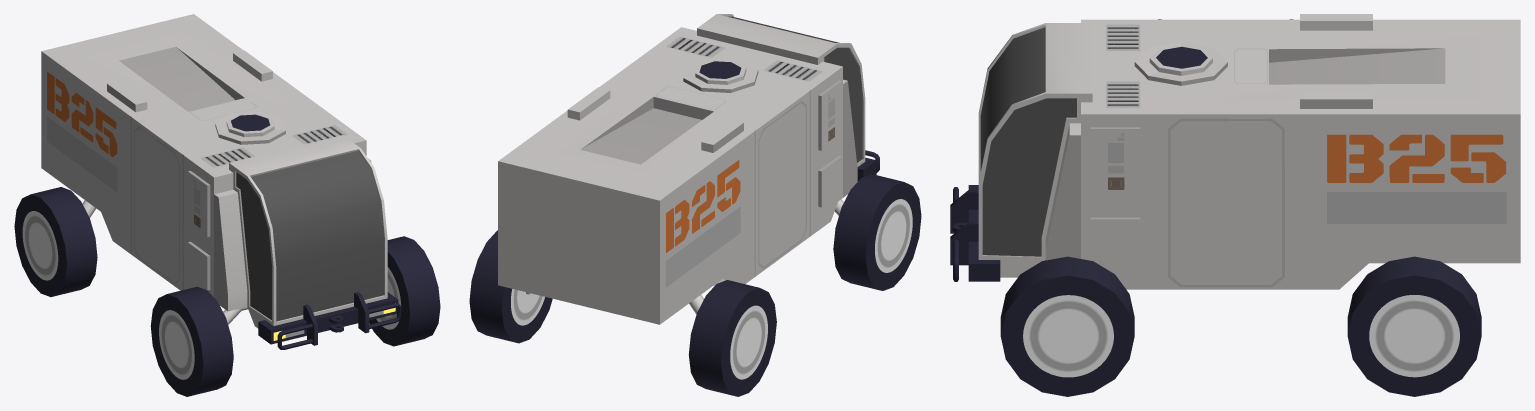
Rendered from transport.fbx.
3 renders of one model, left to right at view 1: azimuth 30°, elevation 25°; view 2: azimuth 150°, elevation 25°; view 3: azimuth 270°, elevation 25°, orthographic. The views are drawn at different scales.
Parts seen in each view (by area): view 1: transport; view 2: transport; view 3: transport.
Boxes of the visible parts, x1,y1,x2,y2 form: transport: [14, 14, 440, 396]; transport: [469, 14, 921, 396]; transport: [950, 14, 1520, 396].
Size of the model in its own units: 3.79 by 3.2 by 6.2.
